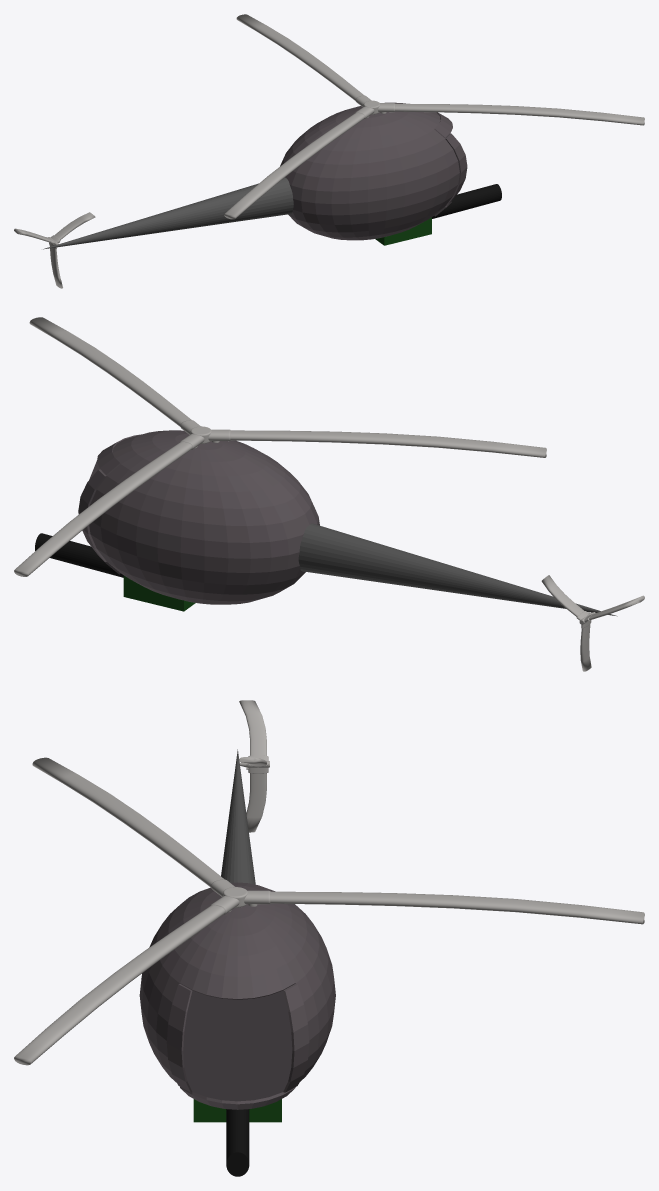
File: heri.fbx
3 renders of one model, top to bottom at view 1: azimuth 30°, elevation 25°; view 2: azimuth 150°, elevation 25°; view 3: azimuth 270°, elevation 25°, orthographic. The views are drawn at different scales.
Visible parts, largest first — view 1: 球, 15992_Light_Utility_Helicopter-2_Rotors_v1_NEW.001, 円錐, 円柱, 15992_Light_Utility_Helicopter-2_Rotors_v1_NEW.002, 立方体; view 2: 球, 15992_Light_Utility_Helicopter-2_Rotors_v1_NEW.001, 円錐, 15992_Light_Utility_Helicopter-2_Rotors_v1_NEW.002, 円柱, 立方体; view 3: 球, 15992_Light_Utility_Helicopter-2_Rotors_v1_NEW.001, 円錐, 15992_Light_Utility_Helicopter-2_Rotors_v1_NEW.002, 円柱, 立方体.
Boxes of the visible parts, left/top/right/bottom form: 球: left=280, top=102, right=467, bottom=240; 15992_Light_Utility_Helicopter-2_Rotors_v1_NEW.001: left=224, top=14, right=644, bottom=219; 円錐: left=43, top=177, right=293, bottom=249; 円柱: left=432, top=184, right=501, bottom=218; 15992_Light_Utility_Helicopter-2_Rotors_v1_NEW.002: left=14, top=212, right=95, bottom=288; 立方体: left=375, top=217, right=431, bottom=245; 球: left=78, top=430, right=319, bottom=604; 15992_Light_Utility_Helicopter-2_Rotors_v1_NEW.001: left=14, top=317, right=546, bottom=576; 円錐: left=298, top=523, right=617, bottom=616; 15992_Light_Utility_Helicopter-2_Rotors_v1_NEW.002: left=541, top=575, right=644, bottom=671; 円柱: left=35, top=533, right=123, bottom=577; 立方体: left=123, top=575, right=195, bottom=611; 球: left=139, top=882, right=335, bottom=1109; 15992_Light_Utility_Helicopter-2_Rotors_v1_NEW.001: left=14, top=757, right=644, bottom=1065; 円錐: left=221, top=749, right=255, bottom=884; 15992_Light_Utility_Helicopter-2_Rotors_v1_NEW.002: left=239, top=700, right=269, bottom=832; 円柱: left=226, top=1109, right=249, bottom=1176; 立方体: left=193, top=1099, right=281, bottom=1122.
Size of the model in its own units: 1627 by 368 by 1067.
